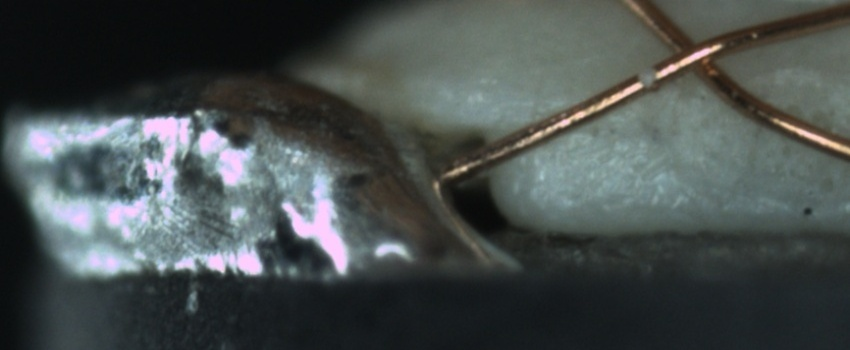CL: (650, 21, 737, 90)
